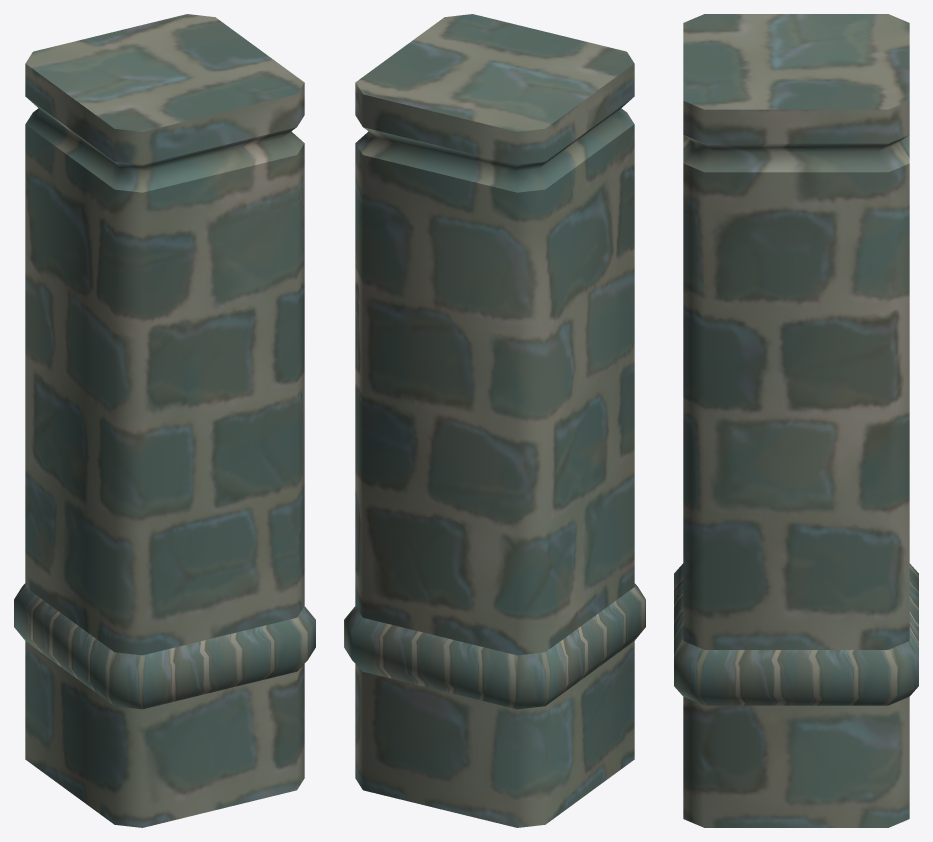
The model's file is HalfWall_Joint.fbx.
The picture shows the model from 3 angles, left to right: view 1: azimuth 30°, elevation 25°; view 2: azimuth 150°, elevation 25°; view 3: azimuth 270°, elevation 25°; orthographic projection. The views are drawn at different scales.
Visible parts, largest first — view 1: Cube.025; view 2: Cube.025; view 3: Cube.025.
Part boxes in pixels (box(x1,y1,x2,y2)): Cube.025: box(14, 14, 315, 827); Cube.025: box(344, 14, 645, 827); Cube.025: box(674, 14, 918, 827).
Size of the model in its own units: 108 by 350 by 108.
